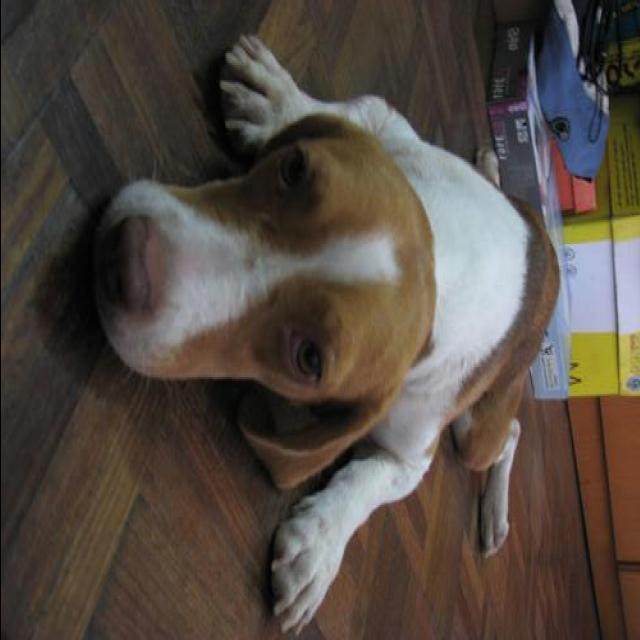beagle: (88, 33, 566, 636)
